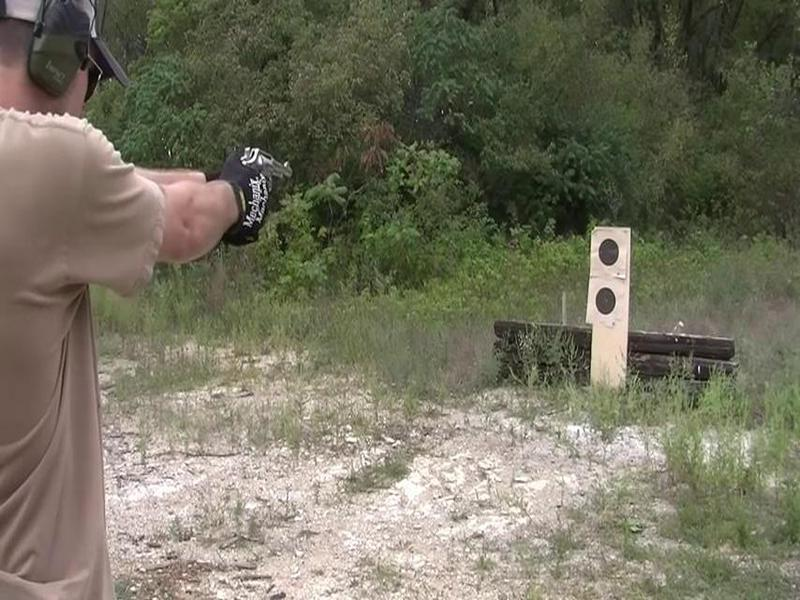Revolver: (222, 134, 297, 211)
